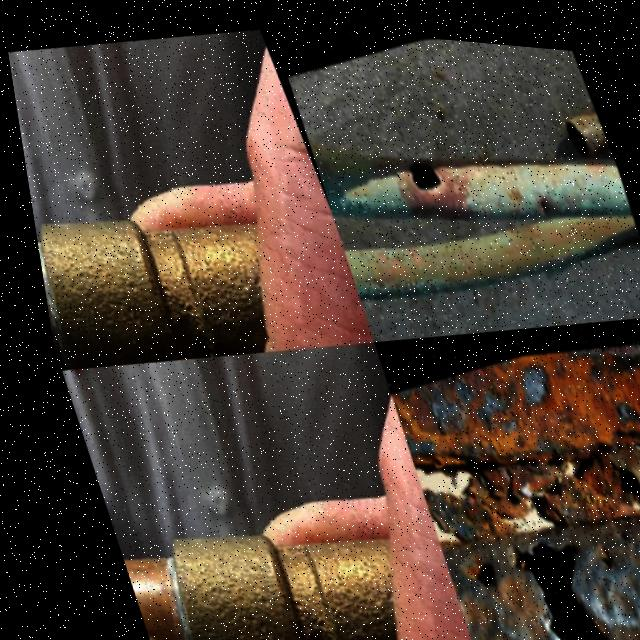hole: (475, 503, 604, 640), (432, 527, 495, 593), (394, 135, 448, 189), (574, 526, 604, 564), (593, 506, 623, 540), (618, 519, 640, 558), (591, 628, 617, 640)
